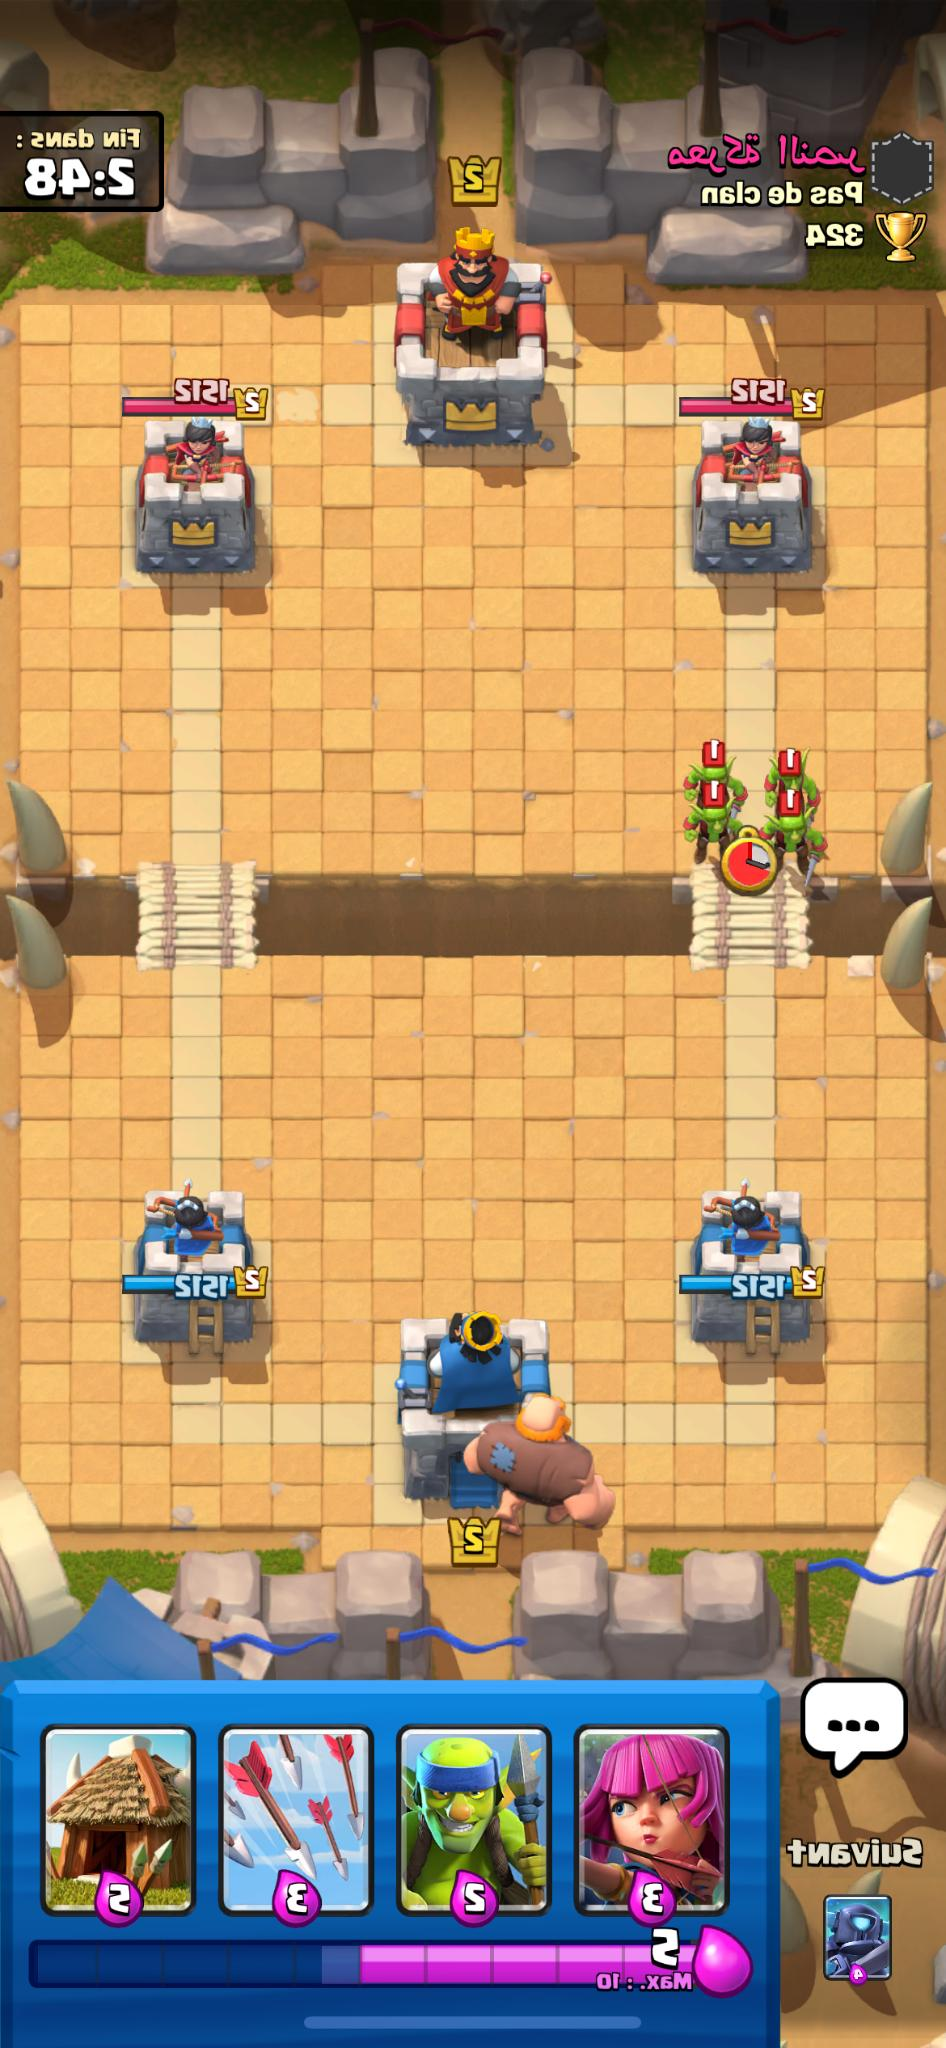geant: (457, 1388, 622, 1548)
gobelin: (758, 795, 827, 888), (679, 744, 749, 833), (679, 801, 746, 889), (758, 747, 822, 831)
